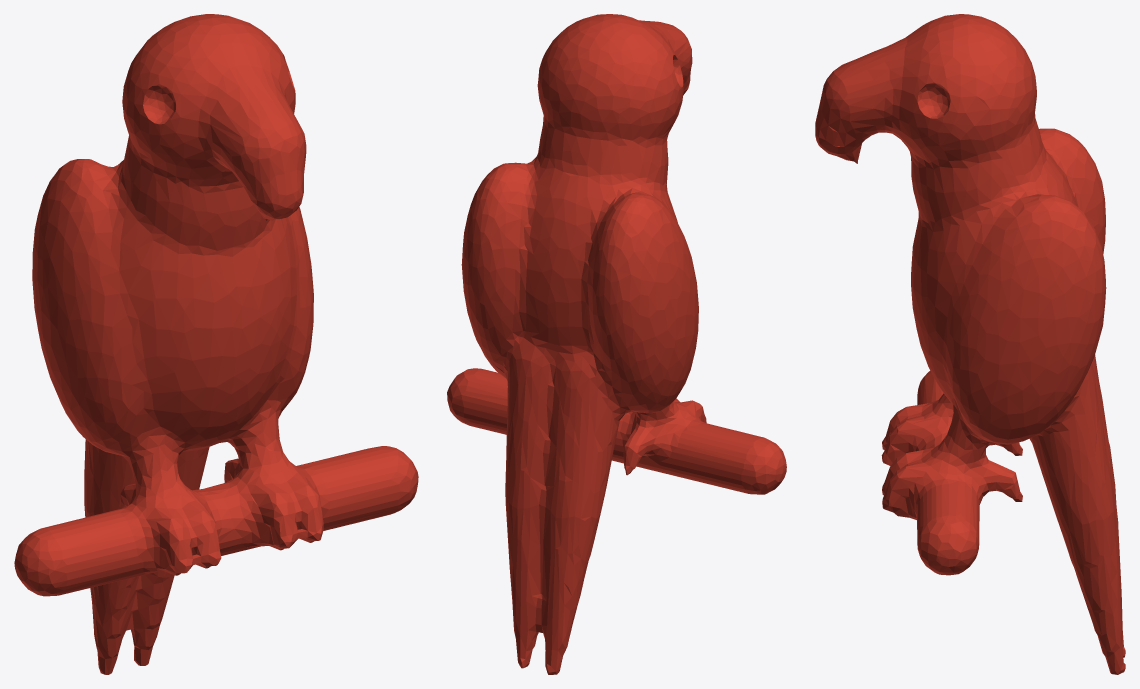
The model's file is NEW_RECOVERY_027_LOD0.glb.
The picture shows the model from 3 angles, left to right: view 1: azimuth 30°, elevation 25°; view 2: azimuth 150°, elevation 25°; view 3: azimuth 270°, elevation 25°; orthographic projection. The views are drawn at different scales.
Visible parts, largest first — view 1: Parrot_sculpture; view 2: Parrot_sculpture; view 3: Parrot_sculpture.
Boxes of the visible parts, <box> form: Parrot_sculpture: <box>14,14,418,674</box>; Parrot_sculpture: <box>447,14,786,674</box>; Parrot_sculpture: <box>815,14,1125,674</box>.
Bounding box in the file's own units: 1.83 × 3.16 × 1.38.
